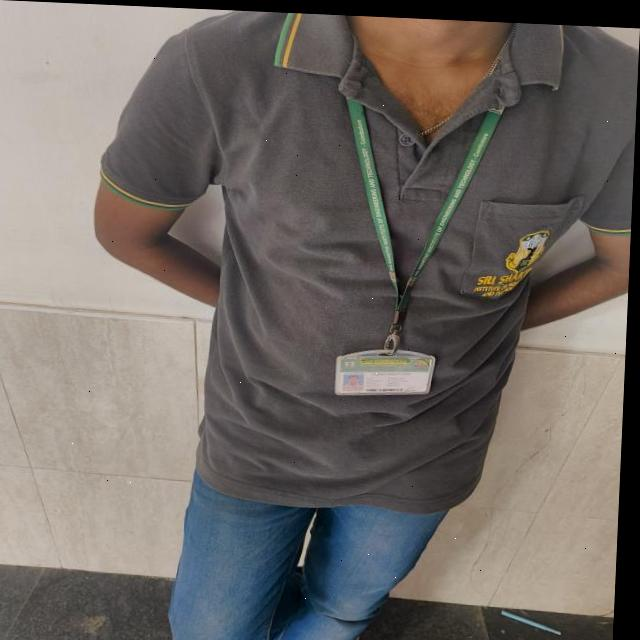id_card: (313, 68, 505, 406)
